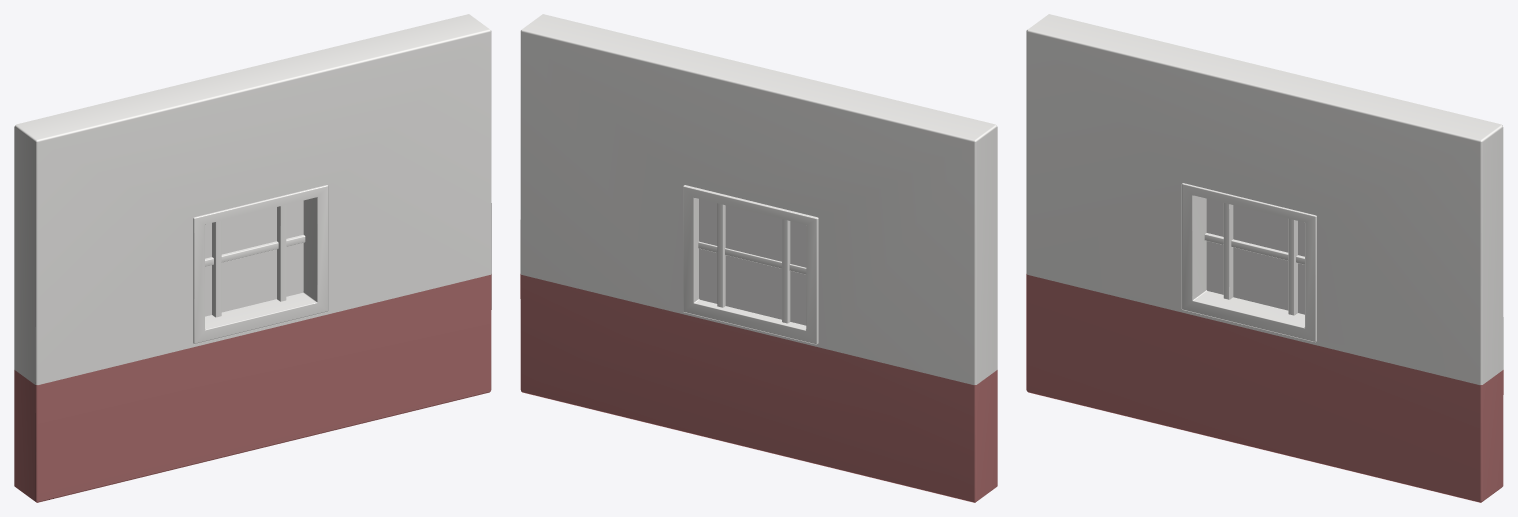
File: Wall_24.glb
The picture shows the model from 3 angles, left to right: view 1: azimuth 30°, elevation 25°; view 2: azimuth 150°, elevation 25°; view 3: azimuth 330°, elevation 25°; orthographic projection.
Parts seen in each view (by area): view 1: Wall_24; view 2: Wall_24; view 3: Wall_24.
Boxes of the visible parts, x1,y1,x2,y2 form: Wall_24: [14, 14, 491, 502]; Wall_24: [520, 14, 997, 502]; Wall_24: [1026, 14, 1503, 502].
Size of the model in its own units: 4.6 by 3.5 by 0.4401.
2 materials, 2 textured.
